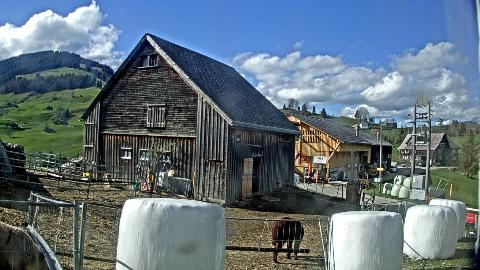car: (389, 166, 397, 172), (418, 162, 426, 166)
sheep: (1, 222, 50, 270), (271, 217, 304, 263), (106, 172, 122, 188)
